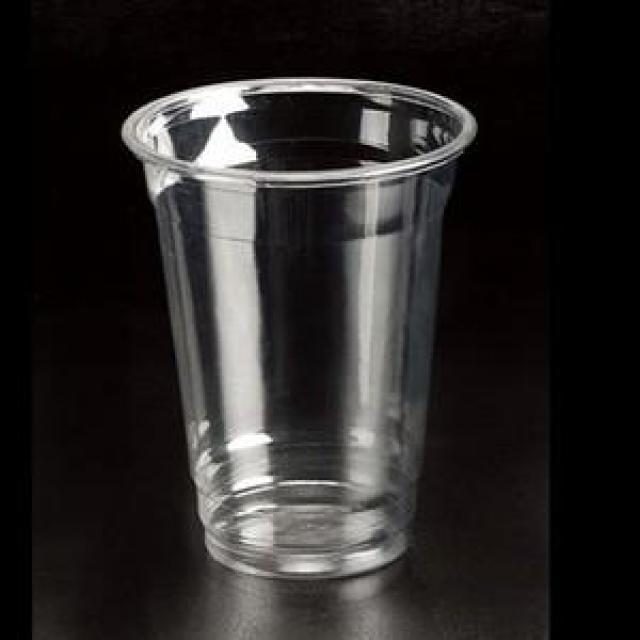plastic cup: (111, 68, 488, 585)
